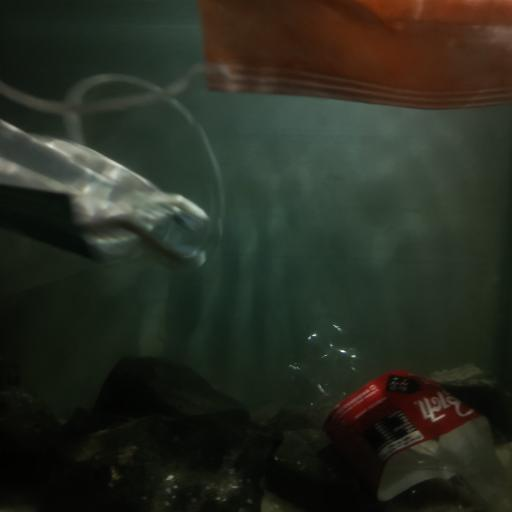mask: (200, 0, 512, 111), (0, 120, 214, 273)
plastic_bottle: (268, 316, 512, 512)
plastic_cup: (0, 74, 225, 291)
